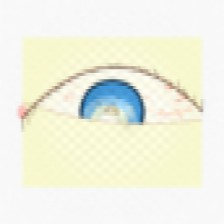corneal_ulcer: (80, 97, 138, 144)
